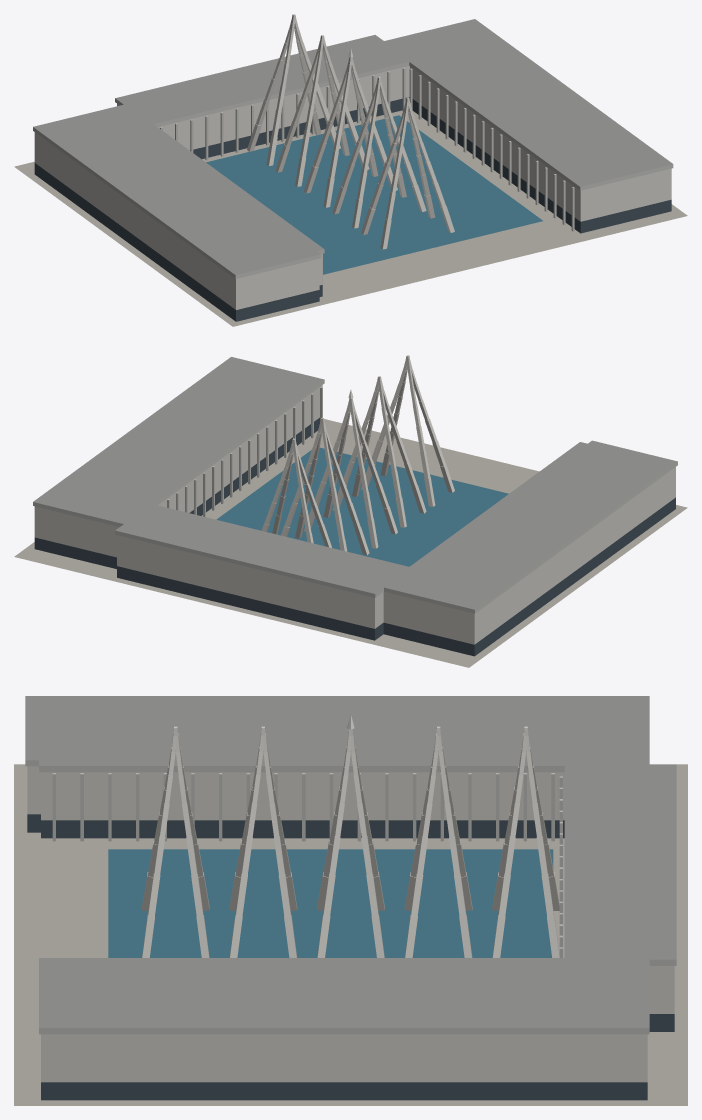
Rendered from pacific_science_center.glb.
3 renders of one model, top to bottom at view 1: azimuth 30°, elevation 25°; view 2: azimuth 150°, elevation 25°; view 3: azimuth 270°, elevation 25°, orthographic. The views are drawn at different scales.
Parts seen in each view (by area): view 1: pacific_science_center; view 2: pacific_science_center; view 3: pacific_science_center.
Part boxes in pixels (box(x1,y1,x2,y2)): pacific_science_center: box(14, 14, 687, 326); pacific_science_center: box(14, 355, 687, 667); pacific_science_center: box(14, 696, 687, 1105).
Size of the model in its own units: 120 by 36.22 by 100.
1 material, 1 textured.
